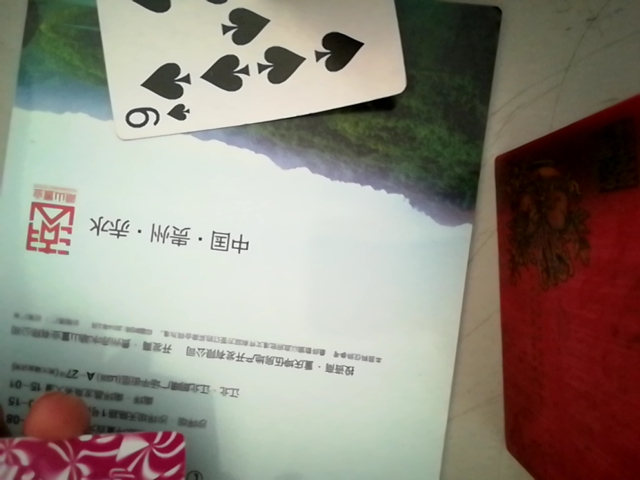ht 9: (85, 5, 410, 142)
